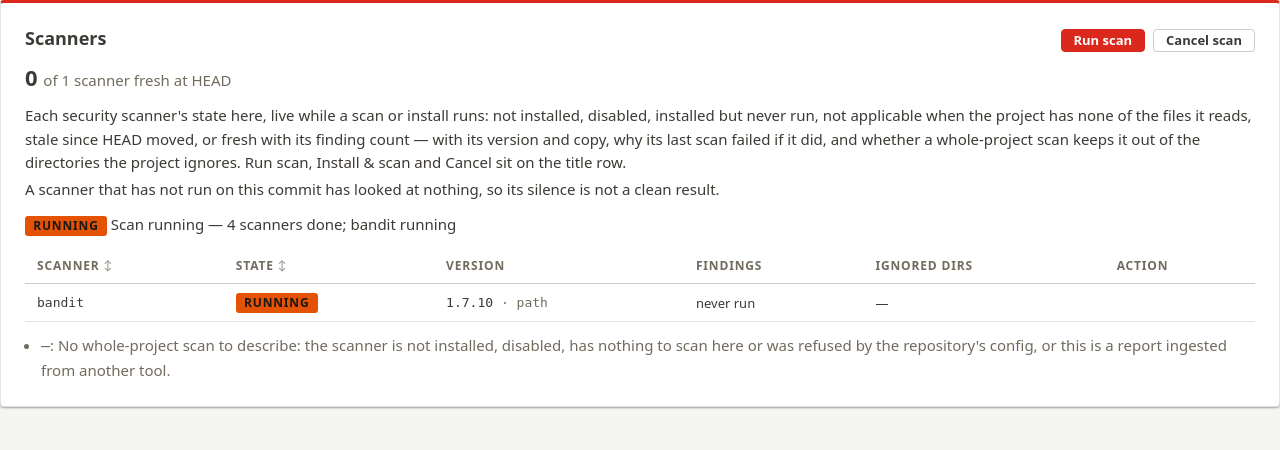
Scenario: Scan controls on the Scanners widget › cancels the running job and states that the previous results are kept
Click the button "Run scan".
click(1103, 40)  # box x1=1060 y1=29 x2=1145 y2=52
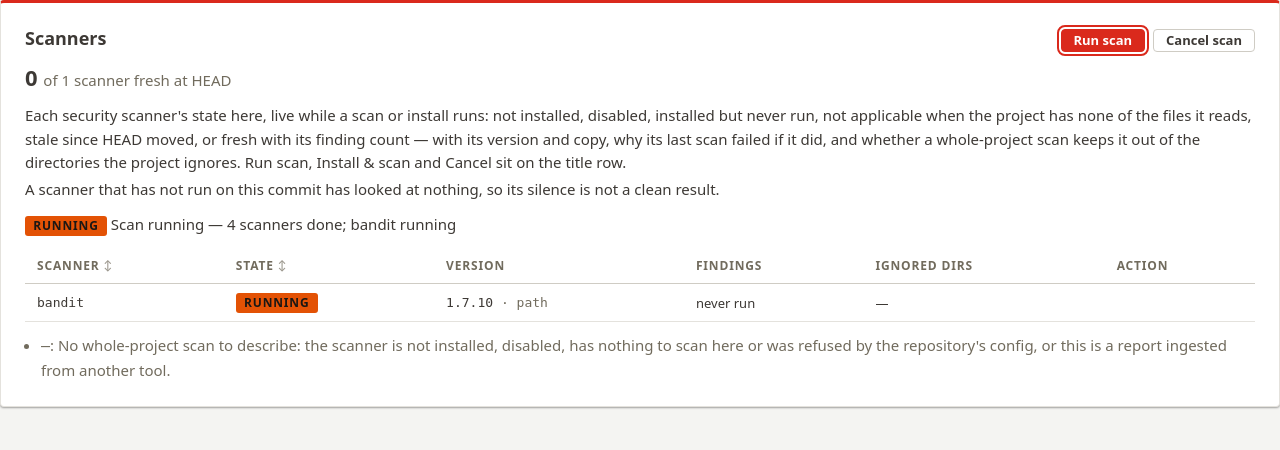
Click the button "Cancel scan".
click(1204, 40)  # box x1=1153 y1=29 x2=1255 y2=52
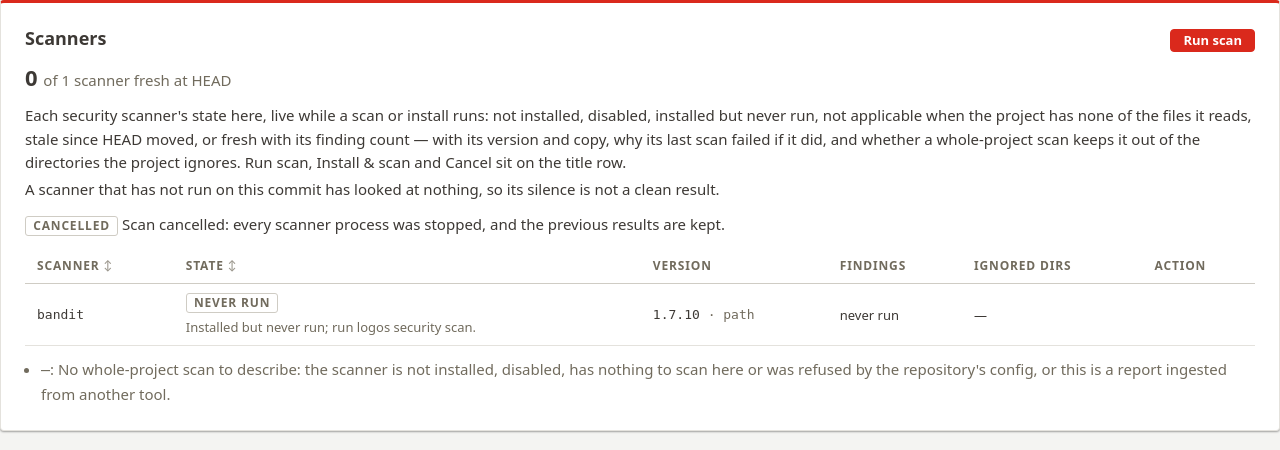
Expected: the text "Scan cancelled: every scanner process was stopped, and the previous results are kept." is shown, x1=122 y1=214 x2=725 y2=234
Expected: the text "running" is gone
